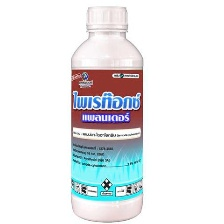insecticide: (64, 3, 148, 223)
